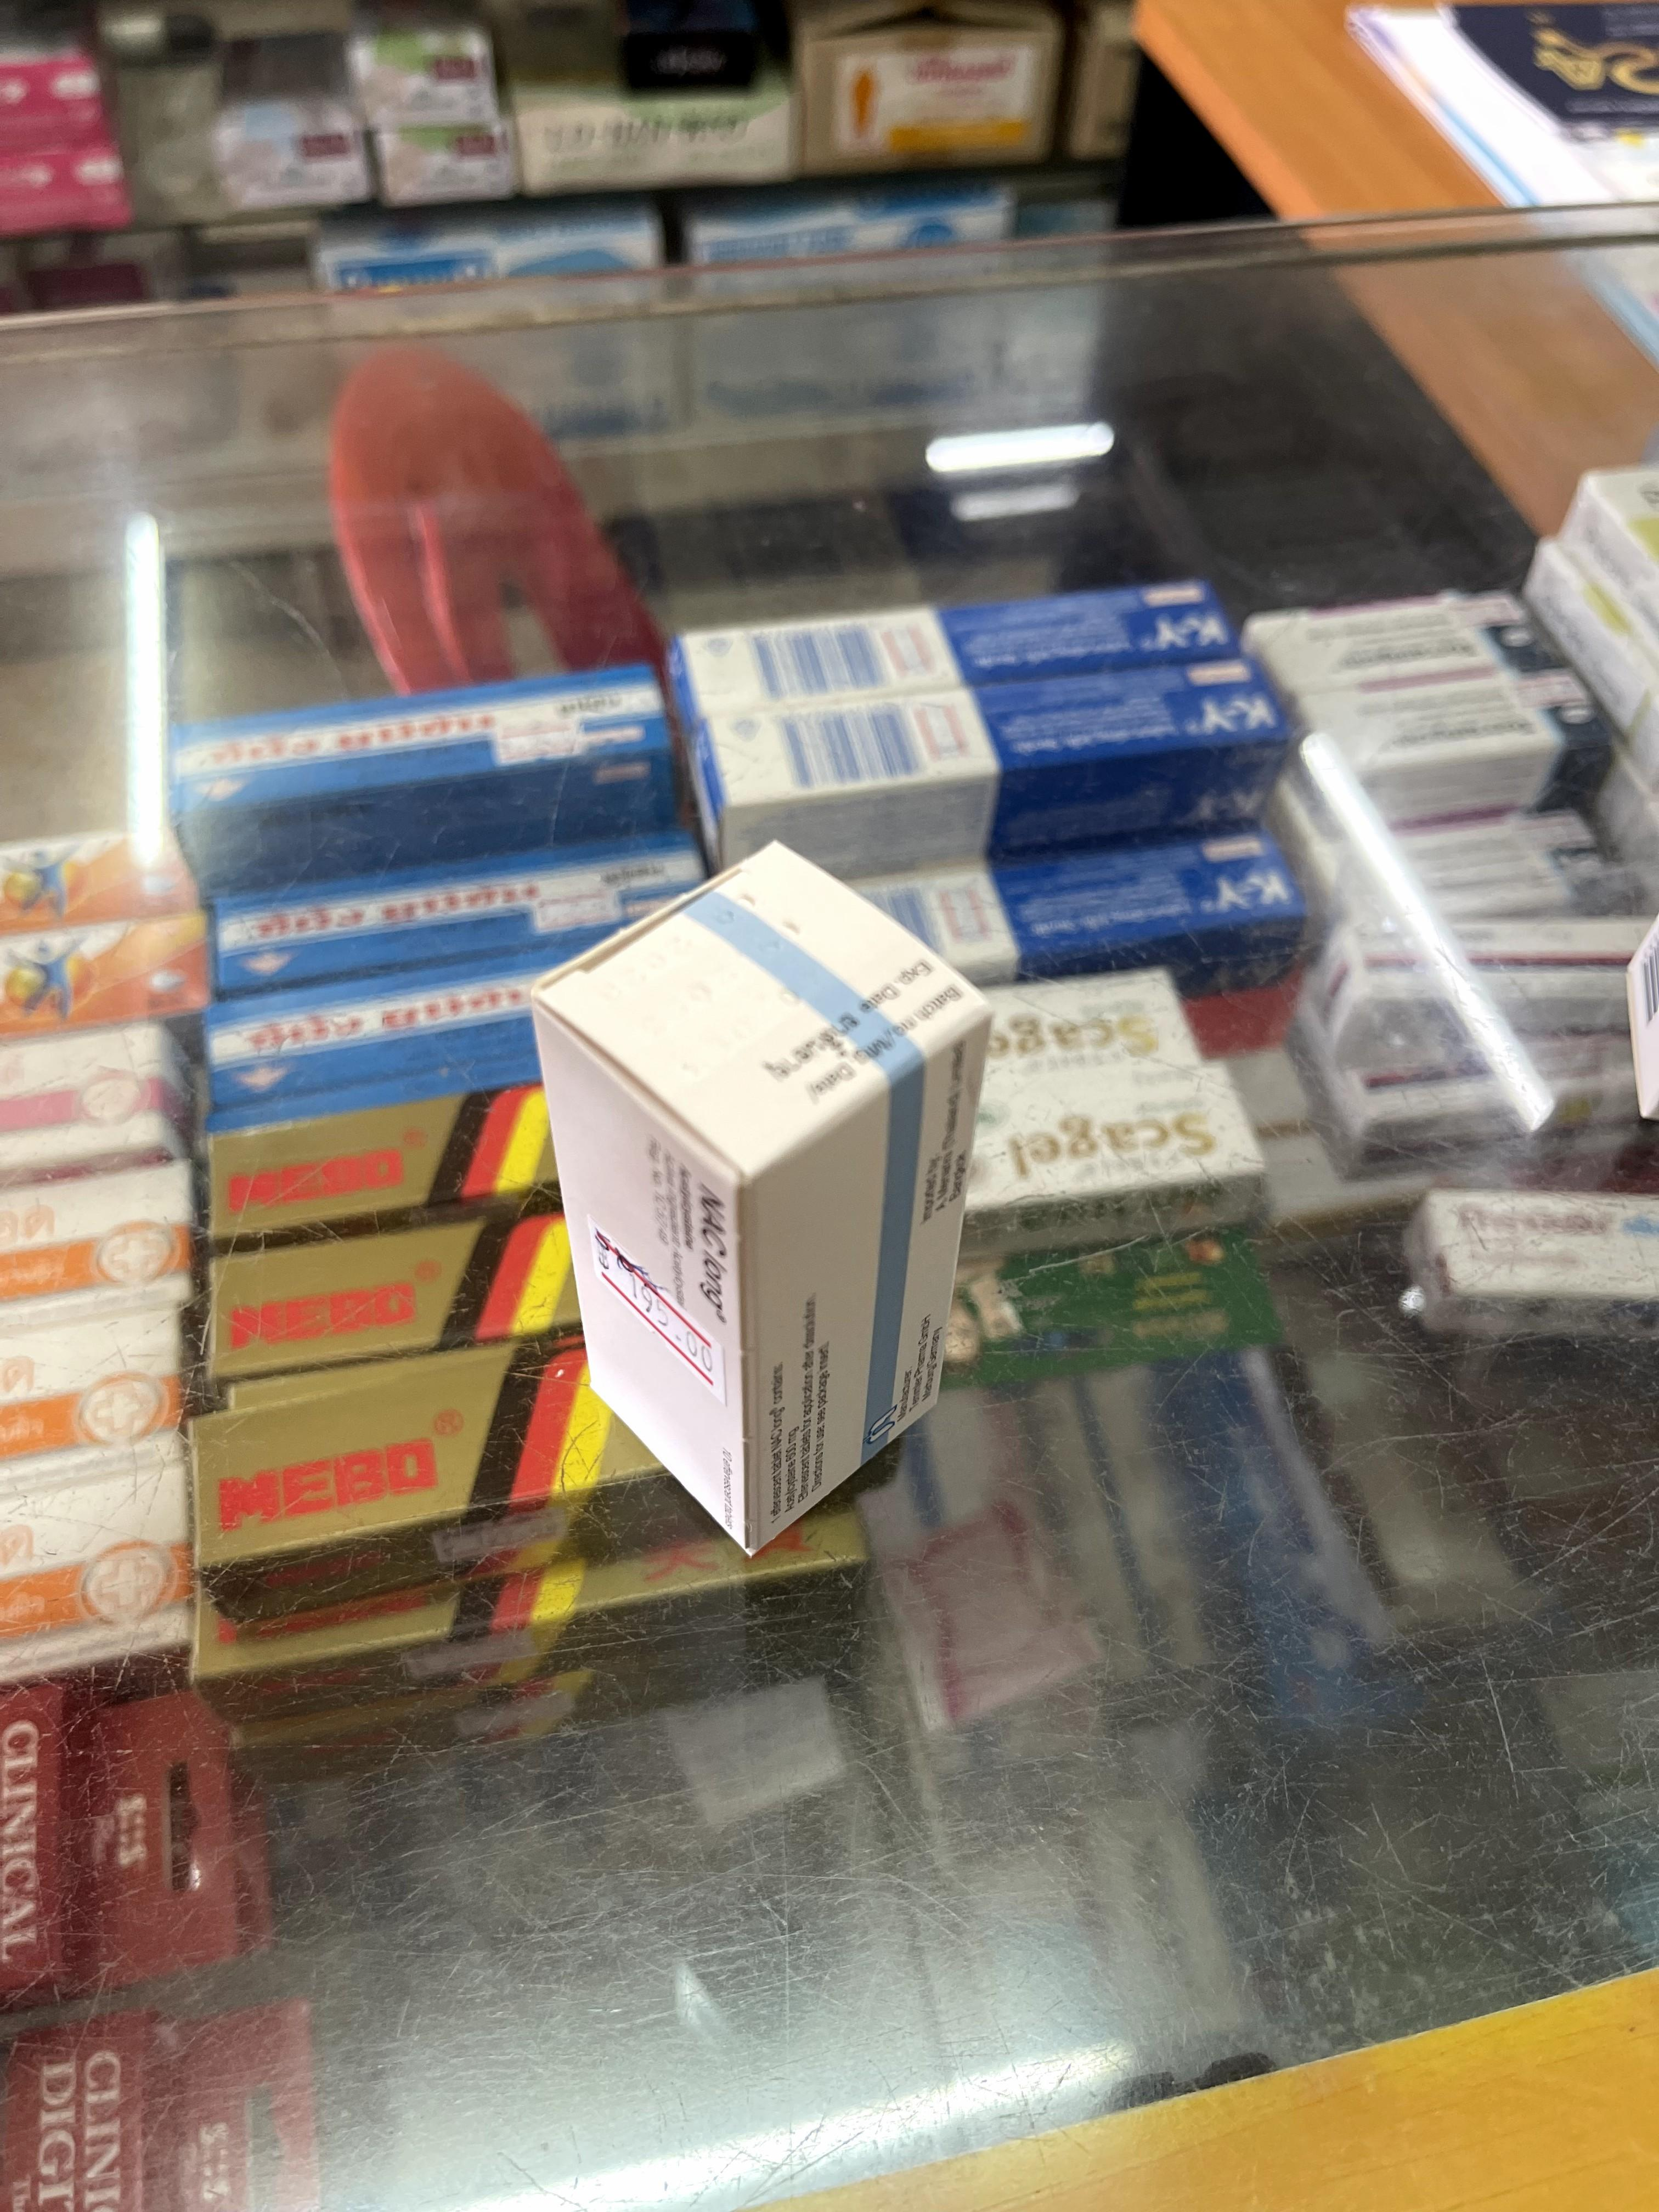Nac-Long: (545, 848, 983, 1559)
